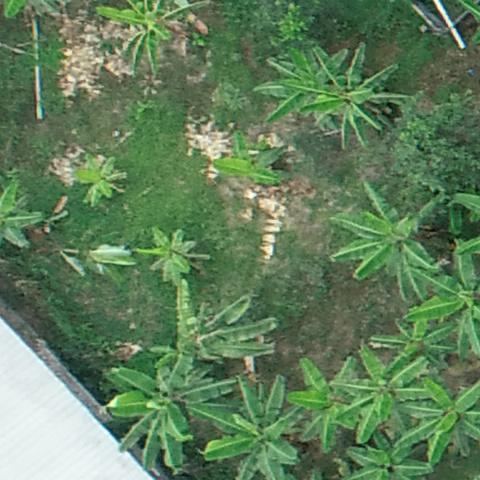Banana-plant: (100, 354, 238, 473), (329, 175, 441, 309), (286, 42, 408, 153), (195, 371, 303, 480), (165, 278, 282, 375), (329, 341, 437, 443), (400, 236, 480, 359), (92, 0, 208, 81), (250, 39, 350, 127), (286, 350, 367, 455), (395, 377, 480, 465), (207, 130, 294, 192), (136, 221, 213, 287), (345, 429, 435, 480), (74, 144, 129, 208)
